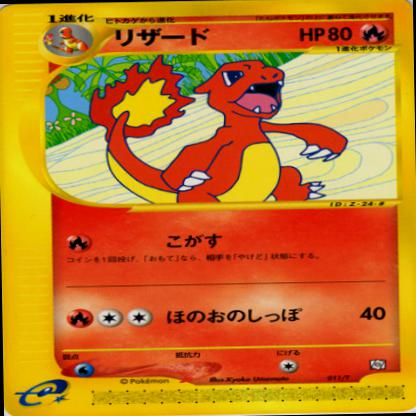Charmeleon: (90, 56, 352, 201)
